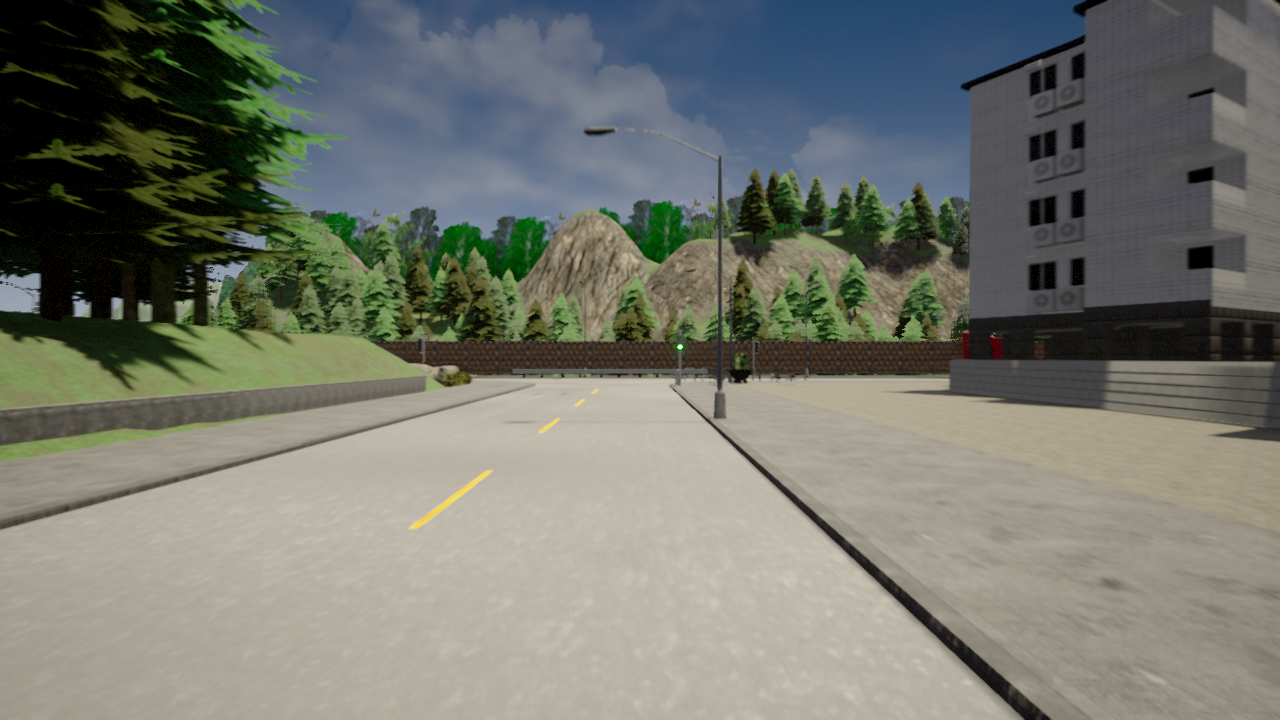green: (677, 335, 684, 350)
